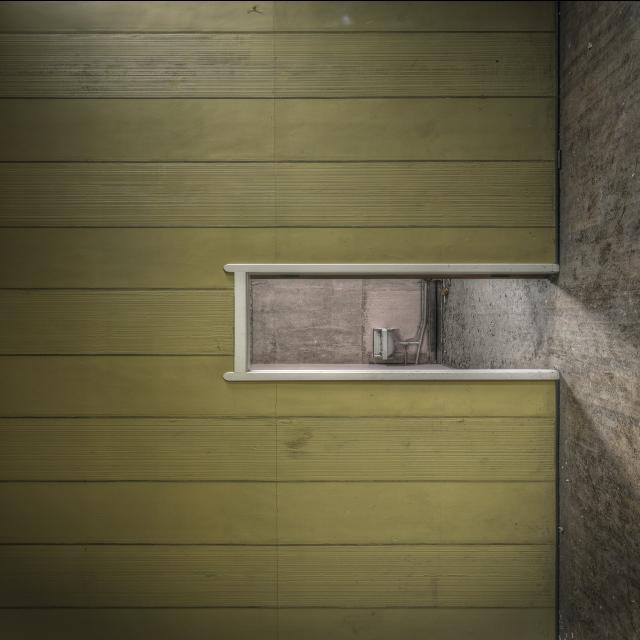open: (242, 270, 570, 380)
